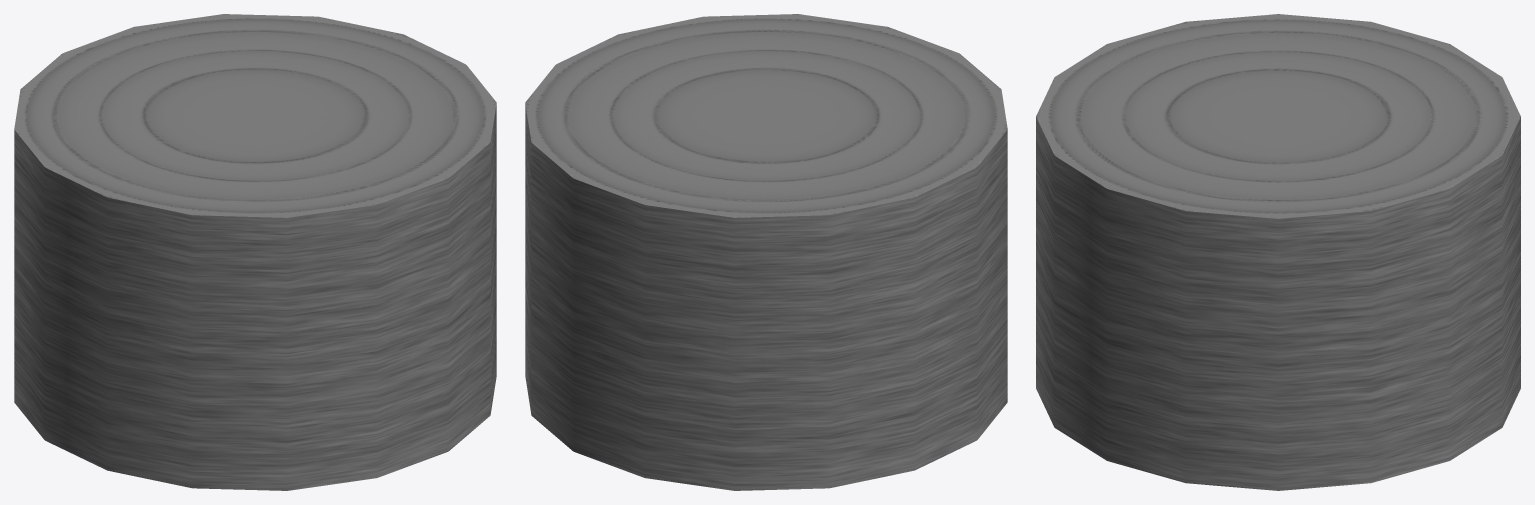
File: tincan.glb
3 renders of one model, left to right at view 1: azimuth 30°, elevation 25°; view 2: azimuth 150°, elevation 25°; view 3: azimuth 270°, elevation 25°, orthographic.
Parts seen in each view (by area): view 1: tincan; view 2: tincan; view 3: tincan.
Part boxes in pixels (x1,y1,x2,y2): tincan: (14, 14, 496, 490); tincan: (525, 14, 1007, 490); tincan: (1036, 14, 1520, 490).
Size of the model in its own units: 0.6386 by 0.3954 by 0.6386.
Materials: 1 (1 with a texture image).
